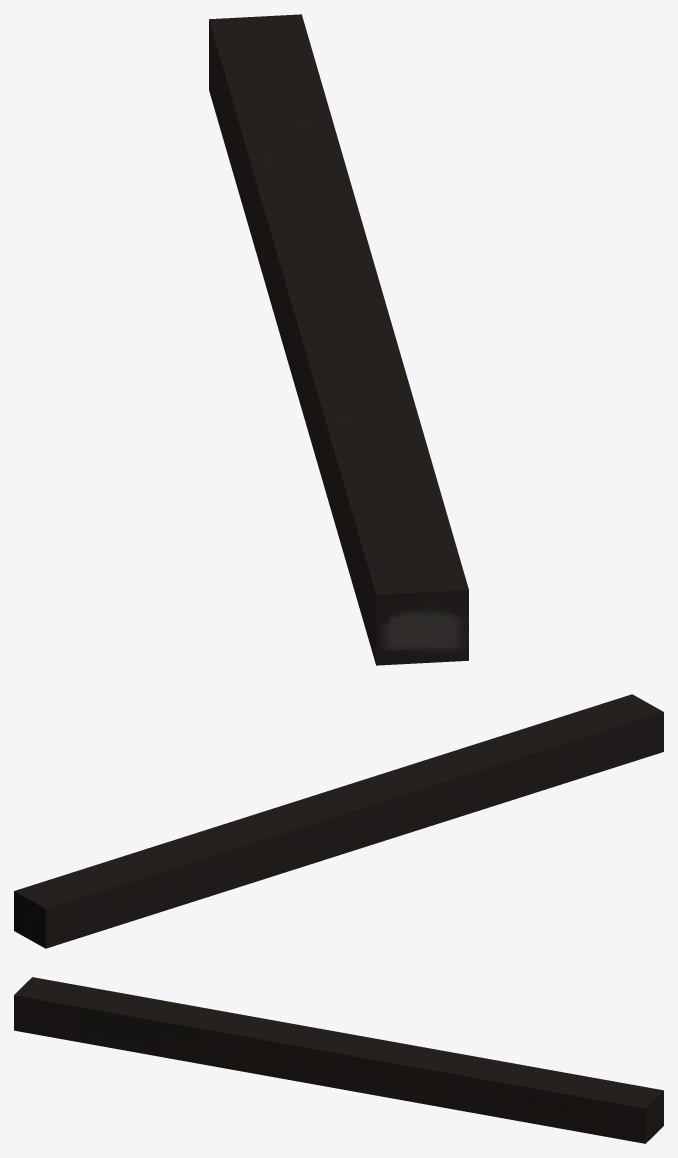
File: support_ladder__side_rail_1.glb
3 renders of one model, top to bottom at view 1: azimuth 30°, elevation 25°; view 2: azimuth 150°, elevation 25°; view 3: azimuth 270°, elevation 25°, orthographic. The views are drawn at different scales.
Visible parts, largest first — view 1: world; view 2: world; view 3: world.
Part boxes in pixels (bbox=[...]): world: bbox=[209, 14, 468, 665]; world: bbox=[14, 694, 663, 948]; world: bbox=[14, 977, 663, 1143].
Bounding box in the file's own units: 0.1995 × 0.025 × 0.4167.
Materials: 1 (1 with a texture image).
